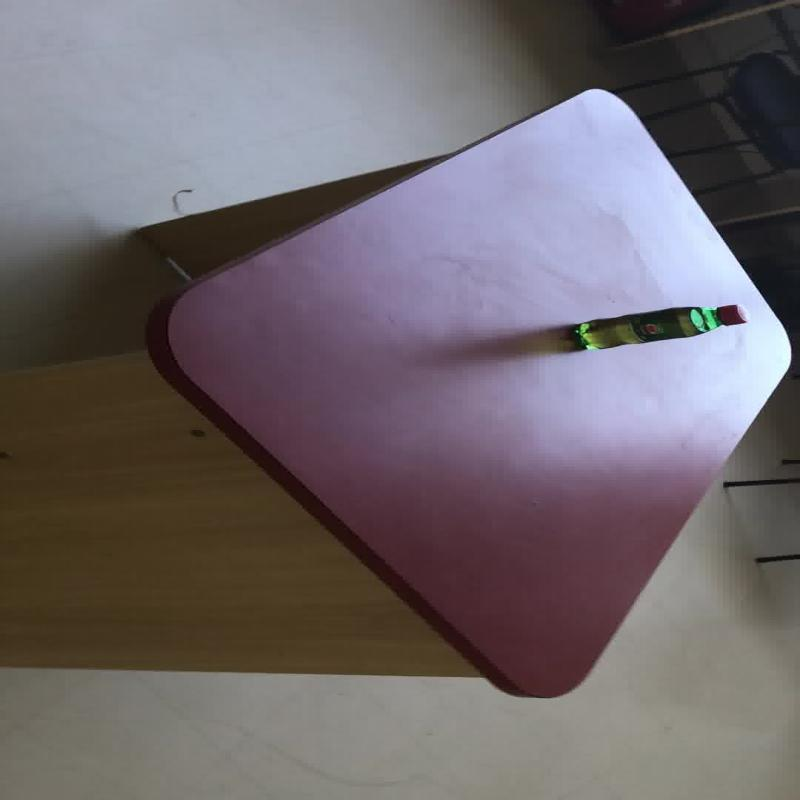guarana: (138, 86, 791, 698), (568, 302, 748, 351)
